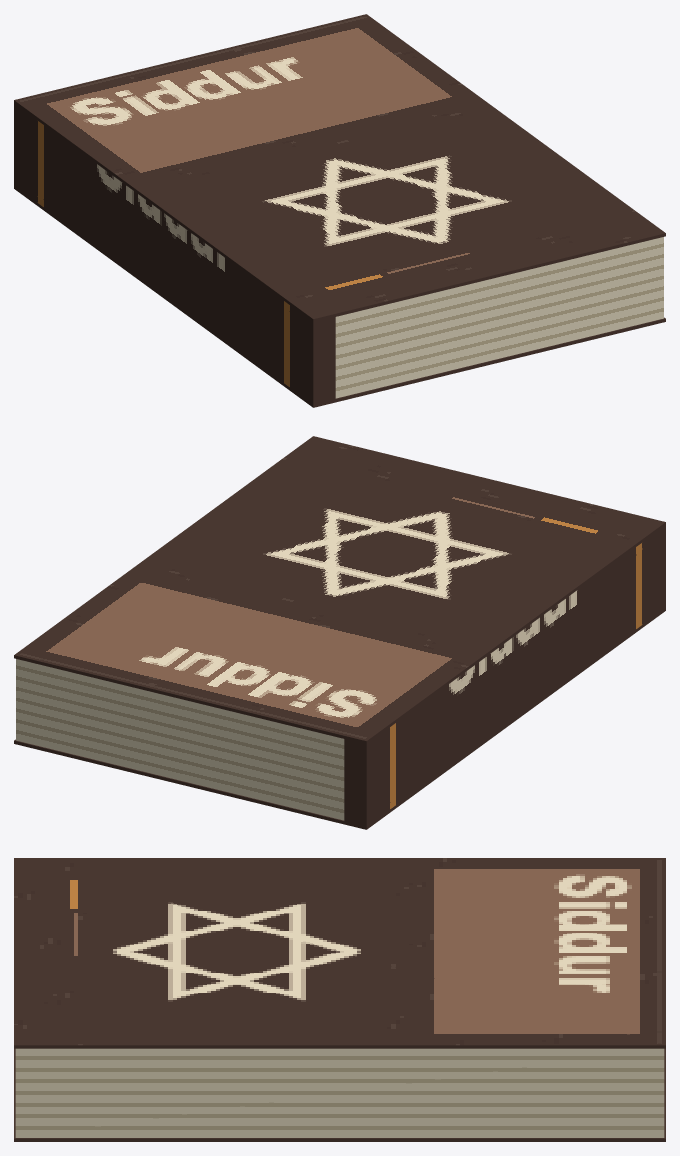
The model's file is holybook_siddur.glb.
3 renders of one model, top to bottom at view 1: azimuth 30°, elevation 25°; view 2: azimuth 150°, elevation 25°; view 3: azimuth 270°, elevation 25°, orthographic. The views are drawn at different scales.
Visible parts, largest first — view 1: block_front cover, block_page block, block_spine, block_back cover; view 2: block_front cover, block_page block, block_spine, block_back cover; view 3: block_front cover, block_page block, block_back cover.
Part boxes in pixels (x1,y1,x2,y2): block_front cover: [14, 14, 665, 322]; block_page block: [335, 237, 663, 398]; block_spine: [14, 103, 335, 404]; block_back cover: [14, 186, 665, 407]; block_front cover: [14, 436, 665, 744]; block_page block: [16, 659, 344, 820]; block_spine: [344, 525, 665, 826]; block_back cover: [14, 608, 665, 829]; block_front cover: [14, 858, 665, 1048]; block_page block: [15, 1048, 664, 1137]; block_back cover: [14, 1048, 665, 1141].
Size of the model in its own units: 0.1414 by 0.034 by 0.208.
1 material, 1 textured.
